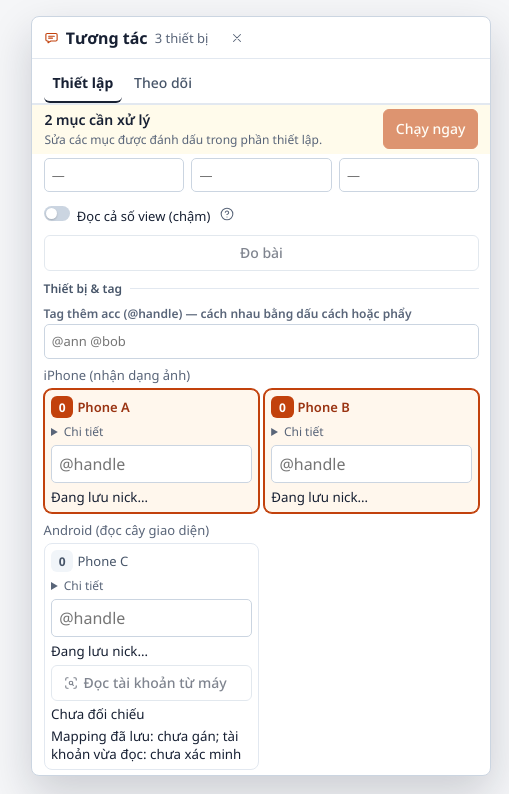
Test case: reloads the stored nick explicitly after a stale save error
The image size is (509, 794).
(page scrolled)
Type "draft.account" into the field named "Tài khoản TikTok của Phone A" at [151, 464], box left=51, top=445, right=252, bottom=483
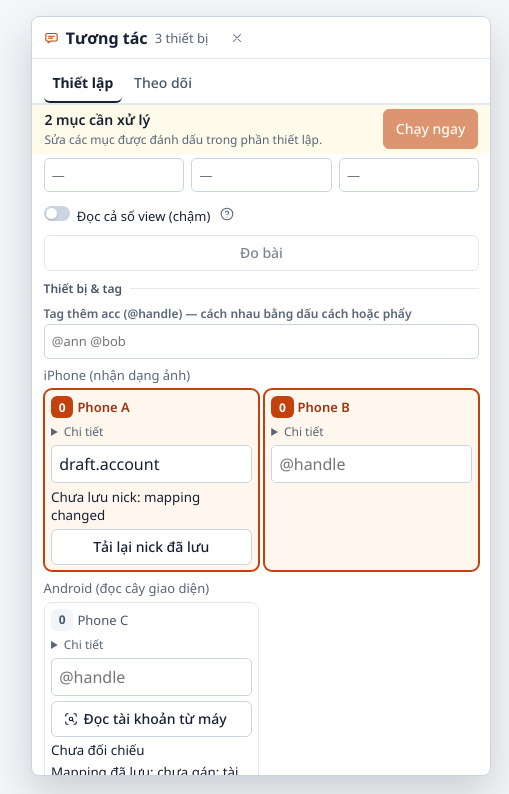
Click the button "Tải lại nick đã lưu" at [151, 547], box left=51, top=529, right=252, bottom=565
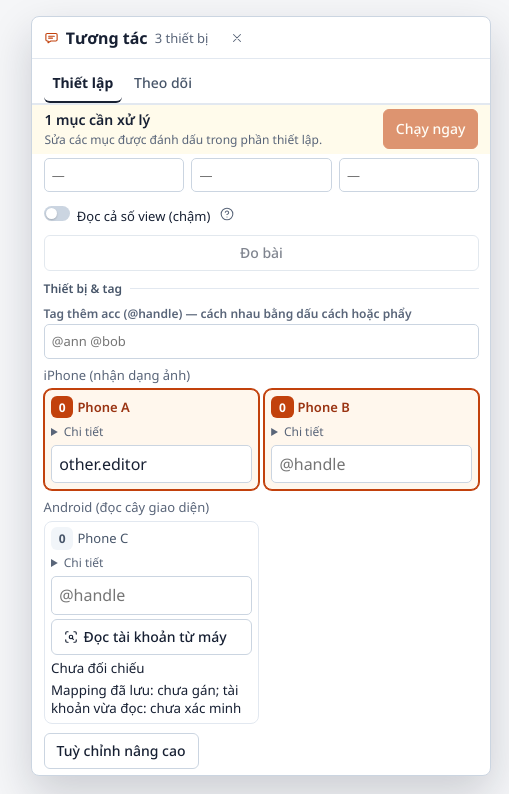
Expected: the field named "Tài khoản TikTok của Phone A" holds "other.editor", left=51, top=445, right=252, bottom=483
